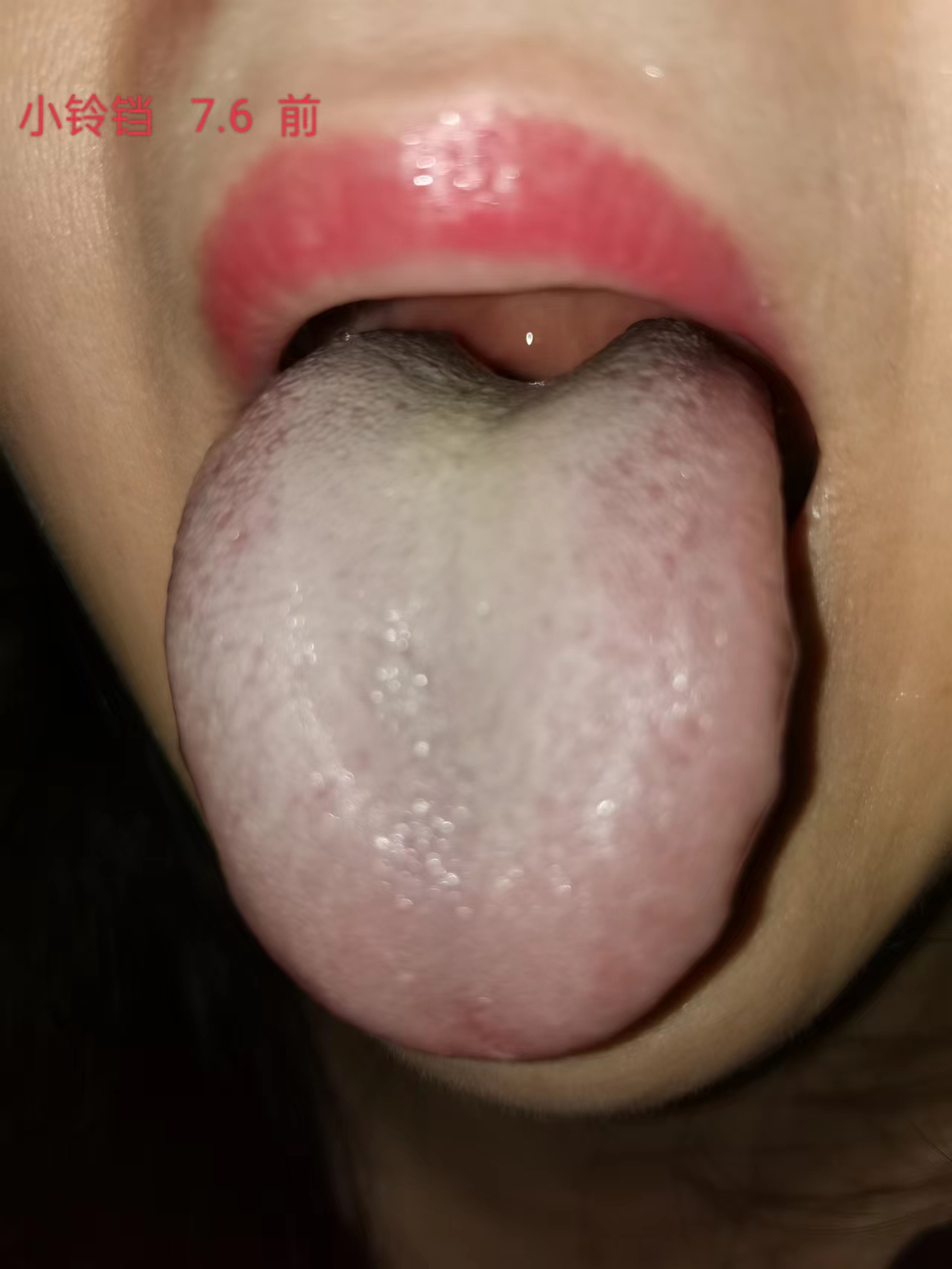baitaishe: (166, 318, 796, 1061)
chihenshe: (650, 657, 797, 1009)
shenquao: (375, 321, 663, 432)
